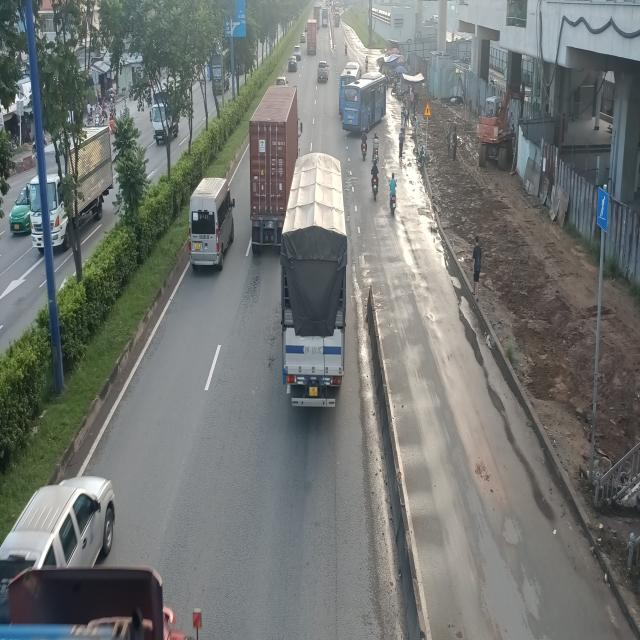coach: (343, 76, 387, 136)
container: (251, 85, 303, 252)
truck: (279, 154, 349, 412)
van: (190, 175, 237, 269)
